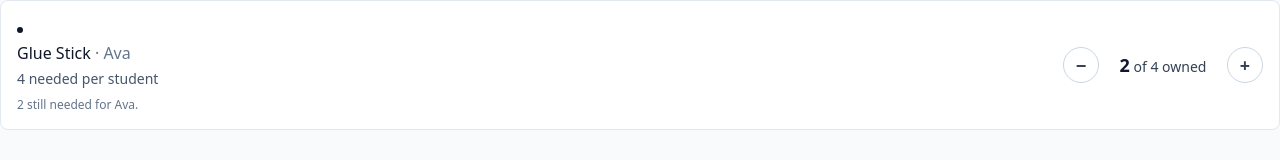
Test: InventoryStepperRow › increments optimistically and then calls the upsert endpoint with the right values
Click the button named "Increase owned Glue Stick for Ava" at (1245, 65), box [1227,47,1263,83]
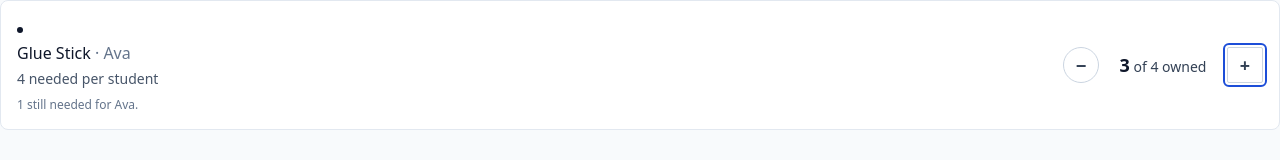
Expected: the text "3" is shown, [1120,53,1130,77]
